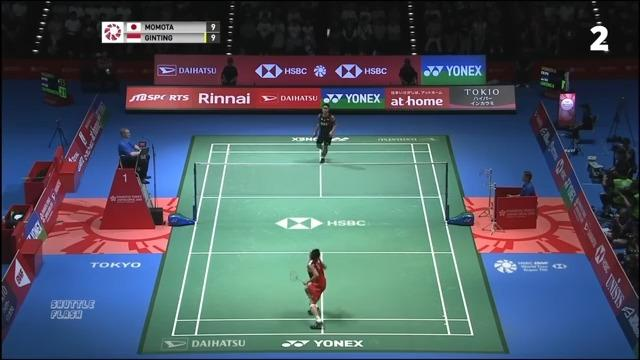Shuttlecock: (324, 26, 332, 38)
